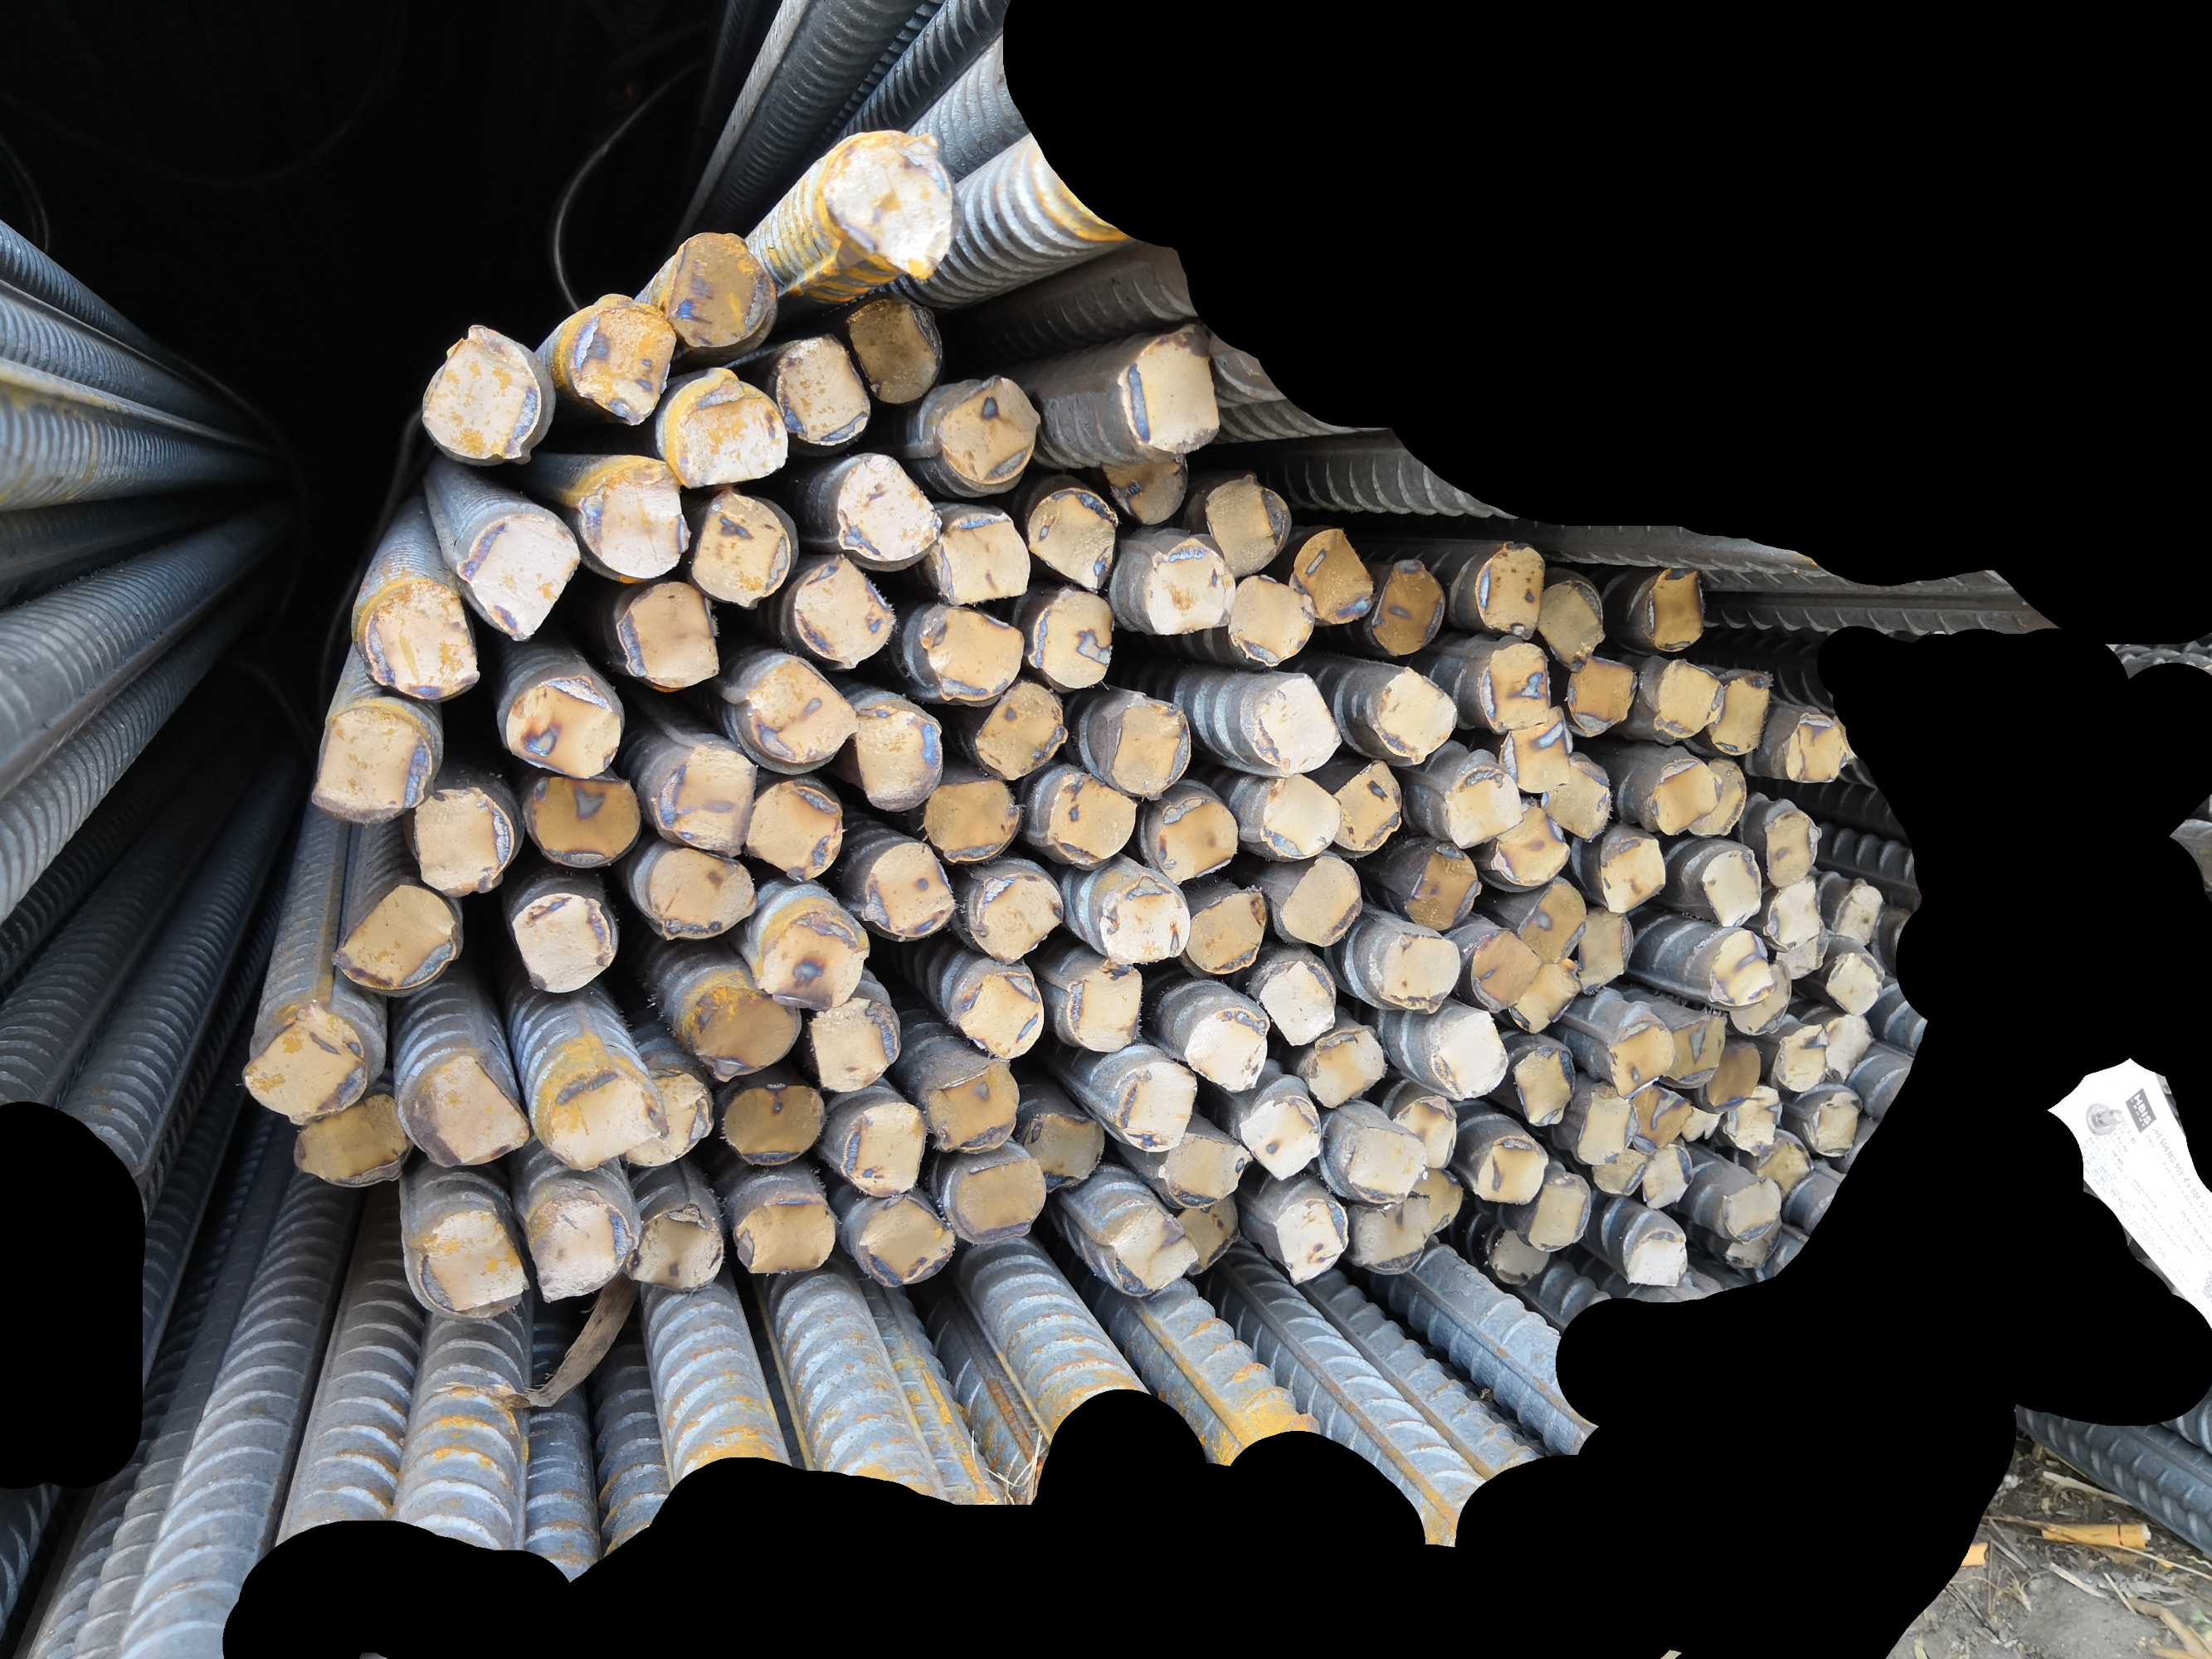rebar: (824, 122, 959, 284), (417, 319, 546, 467), (448, 507, 586, 643), (650, 368, 795, 493), (387, 1056, 535, 1173), (235, 1004, 375, 1127), (537, 1058, 675, 1178), (403, 1201, 535, 1324), (729, 648, 863, 770), (307, 702, 436, 828), (1107, 324, 1231, 455), (568, 455, 694, 580), (497, 664, 628, 784), (324, 882, 462, 995), (361, 579, 486, 701), (821, 444, 947, 566), (669, 978, 807, 1087), (929, 362, 1046, 490), (744, 904, 875, 1016), (572, 291, 680, 425), (607, 572, 725, 692), (661, 228, 777, 350), (648, 730, 757, 859), (917, 592, 1032, 711), (689, 486, 795, 613), (786, 551, 901, 667), (638, 836, 762, 945), (847, 692, 952, 819), (920, 500, 1035, 613), (770, 324, 875, 446), (519, 765, 643, 868), (1198, 462, 1295, 589), (535, 1192, 640, 1310), (744, 767, 847, 887), (406, 788, 518, 897), (1032, 762, 1142, 873), (1238, 666, 1347, 777), (288, 1089, 417, 1183), (1021, 582, 1131, 692), (1089, 690, 1196, 803), (966, 674, 1074, 784), (847, 1185, 960, 1290), (504, 892, 619, 995), (1135, 533, 1241, 643), (938, 1141, 1051, 1244), (715, 1075, 830, 1175), (830, 1093, 933, 1202), (1098, 1053, 1204, 1157), (859, 836, 962, 945), (1023, 483, 1123, 594), (795, 997, 906, 1096), (1089, 870, 1196, 972), (1224, 563, 1323, 673), (1098, 1195, 1203, 1298), (844, 295, 938, 408), (624, 1195, 727, 1297), (1173, 1000, 1276, 1101), (1363, 657, 1461, 763), (1145, 789, 1246, 889), (919, 1058, 1023, 1154), (1365, 545, 1452, 660), (919, 775, 1027, 868), (1285, 519, 1377, 627), (624, 1070, 722, 1171), (950, 964, 1048, 1063), (966, 871, 1067, 967), (1177, 880, 1272, 981), (1058, 950, 1147, 1058), (1255, 765, 1349, 864), (732, 1192, 838, 1277), (1372, 925, 1469, 1018), (1227, 1096, 1328, 1185), (1250, 955, 1342, 1051), (1105, 436, 1198, 530), (1276, 852, 1365, 950), (1394, 840, 1492, 929), (1154, 1126, 1257, 1209), (1014, 1100, 1107, 1192), (1337, 1117, 1429, 1209), (1469, 638, 1558, 734), (1293, 1023, 1389, 1112), (1264, 1194, 1353, 1290), (1323, 758, 1410, 856), (1471, 535, 1546, 647), (1161, 1187, 1245, 1286), (1489, 796, 1576, 890), (1436, 762, 1527, 850), (1422, 1009, 1510, 1101), (1530, 575, 1607, 674), (1464, 920, 1544, 1014), (1353, 1192, 1438, 1279), (1536, 756, 1619, 843), (1645, 751, 1727, 840), (1501, 706, 1579, 798), (1639, 554, 1710, 655), (1517, 870, 1590, 967), (1590, 829, 1672, 917), (1560, 653, 1640, 742), (1510, 1037, 1578, 1134), (1706, 653, 1771, 756), (1389, 1082, 1461, 1175), (1469, 1127, 1551, 1208), (1600, 1018, 1680, 1100), (1567, 1082, 1644, 1168), (1652, 657, 1727, 744), (1705, 925, 1780, 1012), (1659, 1004, 1731, 1091), (1572, 903, 1637, 999), (1625, 1077, 1698, 1159), (1687, 751, 1752, 842), (1757, 805, 1825, 890), (1694, 845, 1762, 931), (1523, 1175, 1591, 1258), (1503, 960, 1581, 1032), (1400, 1159, 1469, 1239), (1712, 1175, 1792, 1244), (1783, 706, 1851, 788), (1720, 1075, 1787, 1159), (1771, 1014, 1835, 1098), (1815, 1002, 1877, 1087), (1729, 958, 1795, 1039), (1748, 1134, 1820, 1208), (1829, 866, 1888, 950), (1823, 941, 1888, 1018), (1764, 875, 1829, 950), (1701, 1039, 1764, 1115), (1804, 1087, 1867, 1162), (1489, 1220, 1558, 1286), (1621, 1225, 1691, 1291), (1717, 1216, 1794, 1272), (1640, 1138, 1696, 1213), (1586, 1138, 1651, 1202), (1771, 922, 1835, 983), (1677, 1096, 1727, 1145)
